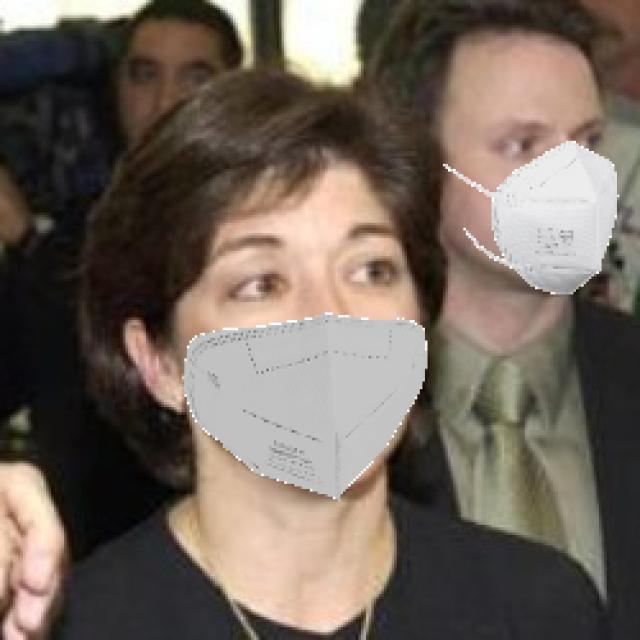mask: (171, 313, 441, 513), (465, 135, 638, 303)
